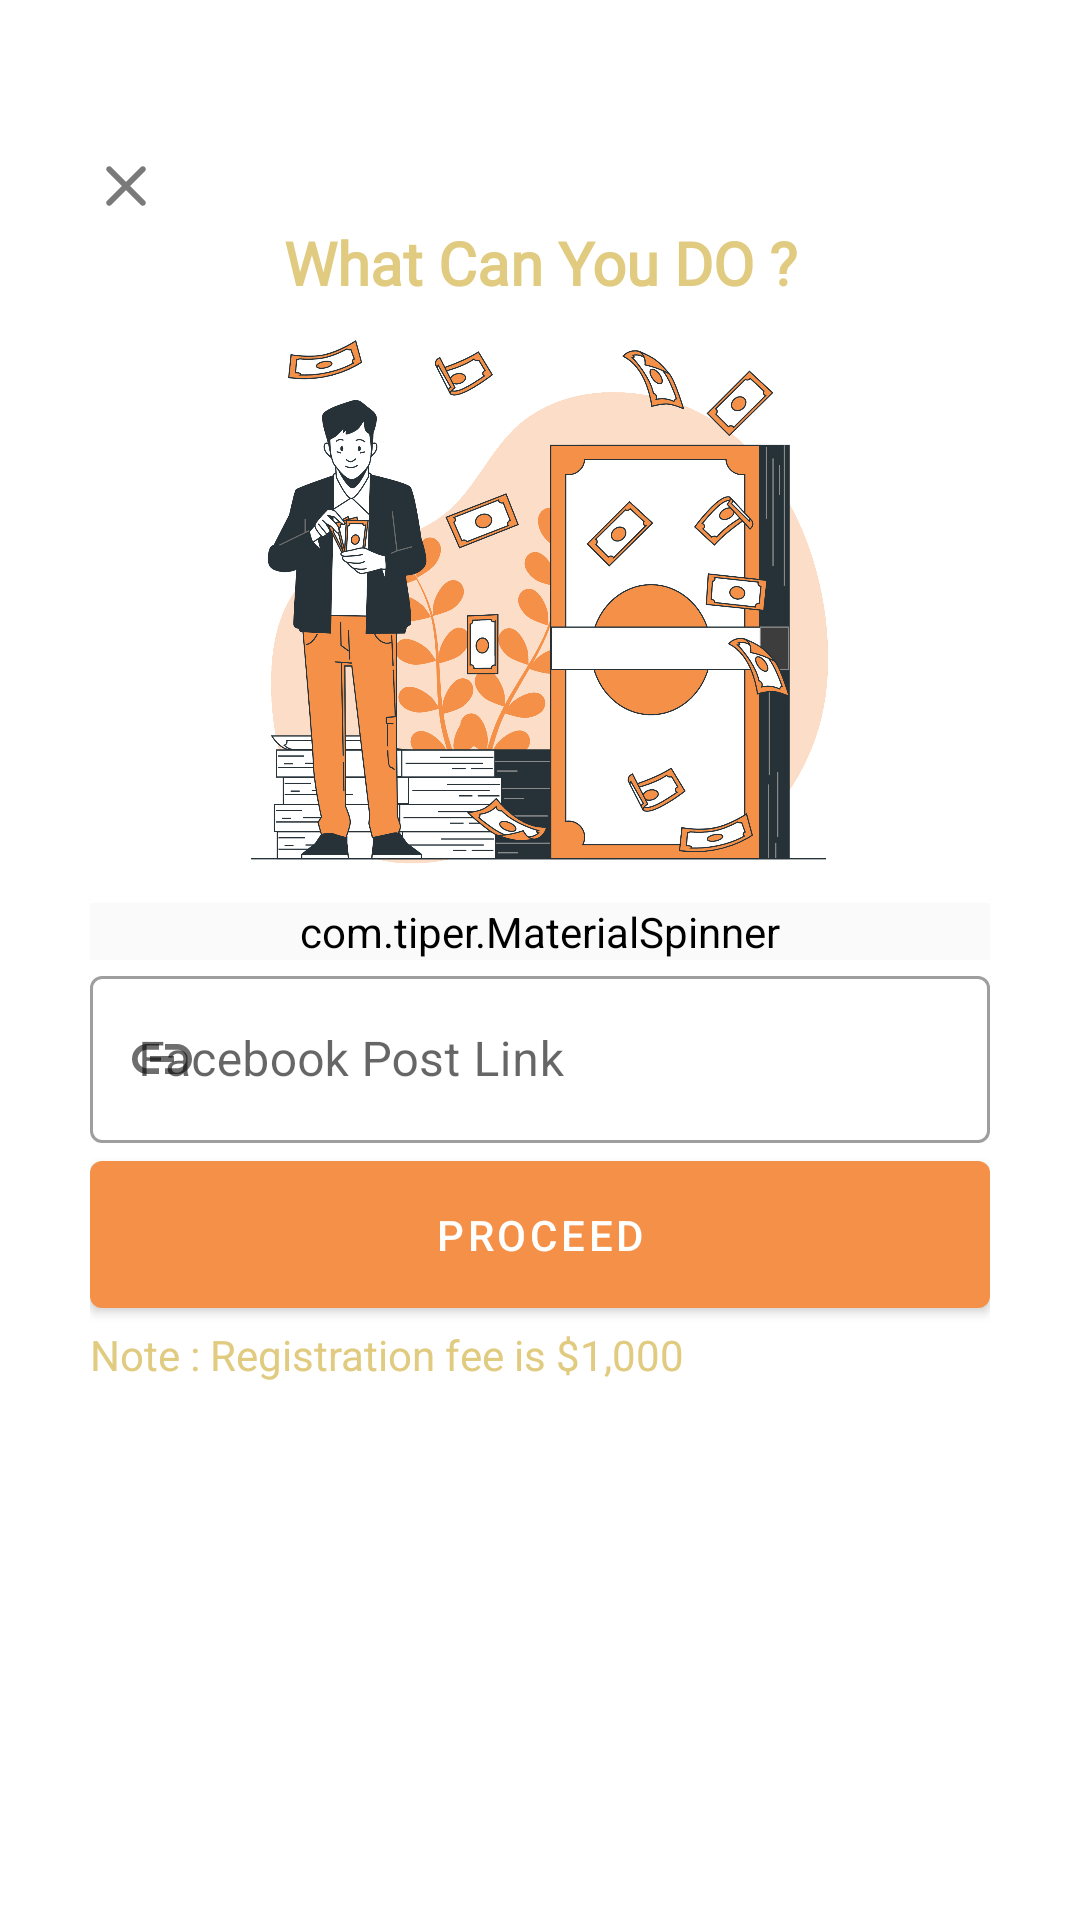

Point at icon controls on the screen. Image size 1080×1920, points as (x,y).
close: (126,186)
